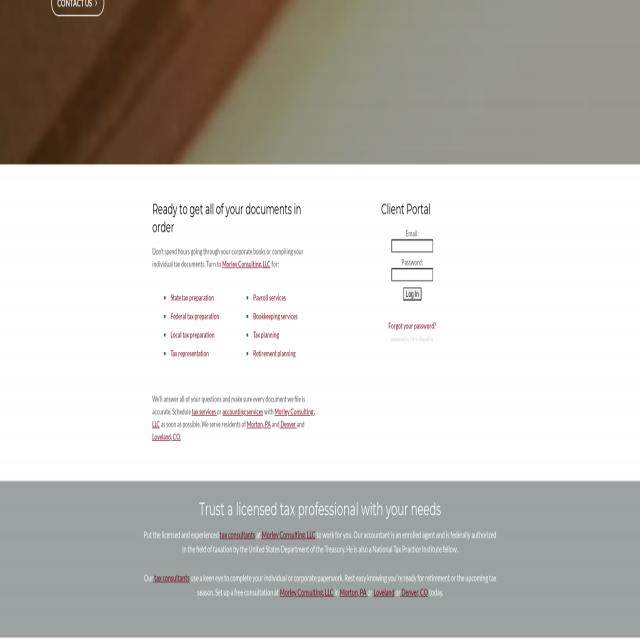button: (52, 0, 104, 16), (403, 287, 421, 301)
field: (391, 239, 433, 252), (391, 268, 433, 281)
